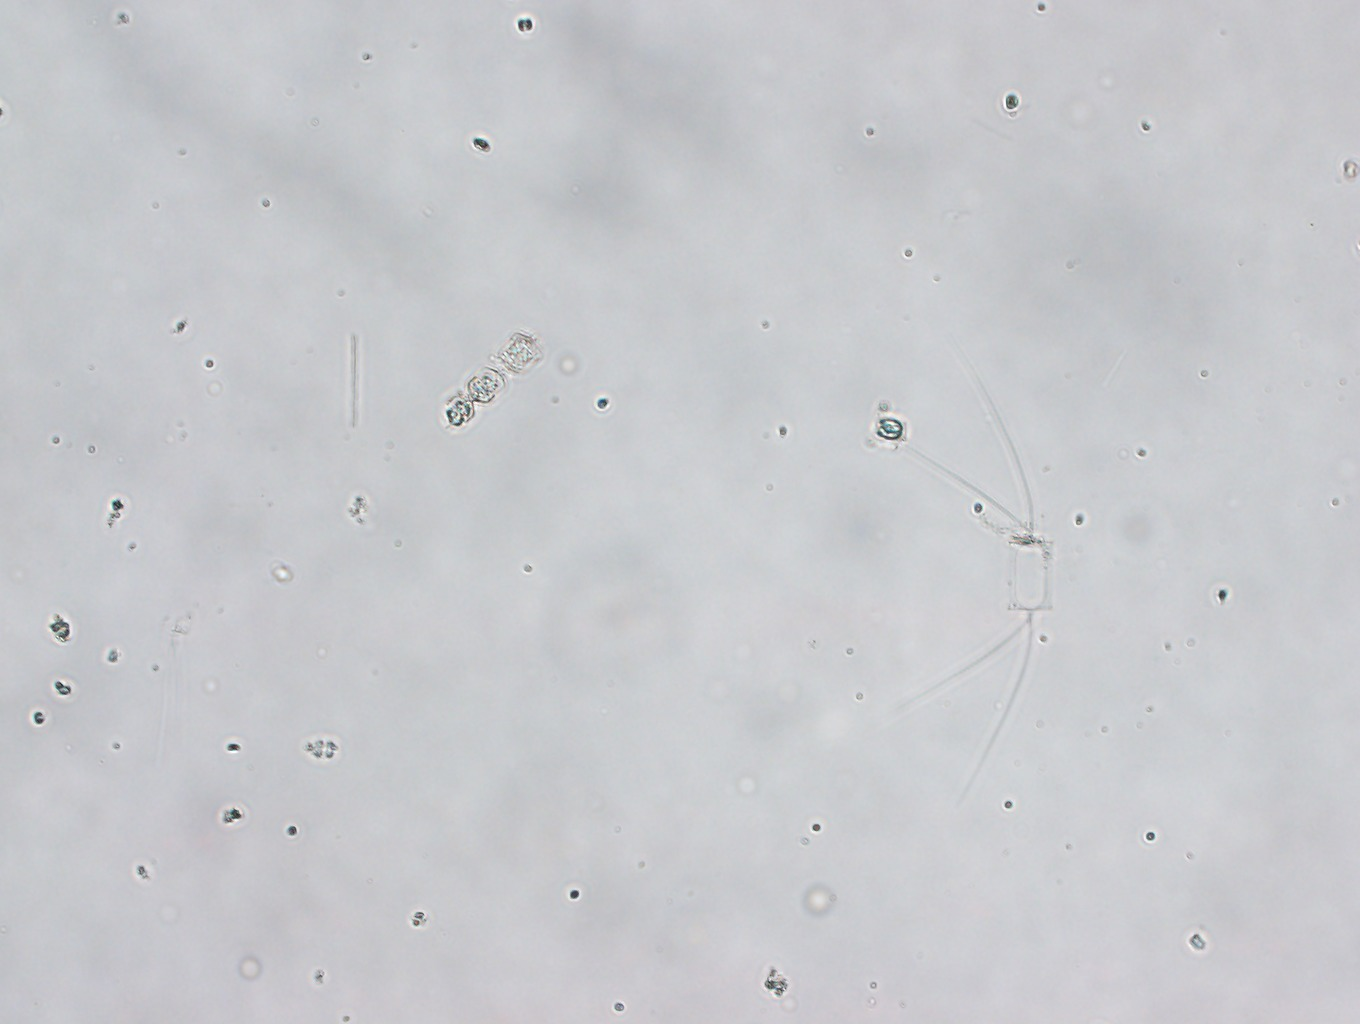chaetoceros: (858, 327, 1055, 811)
